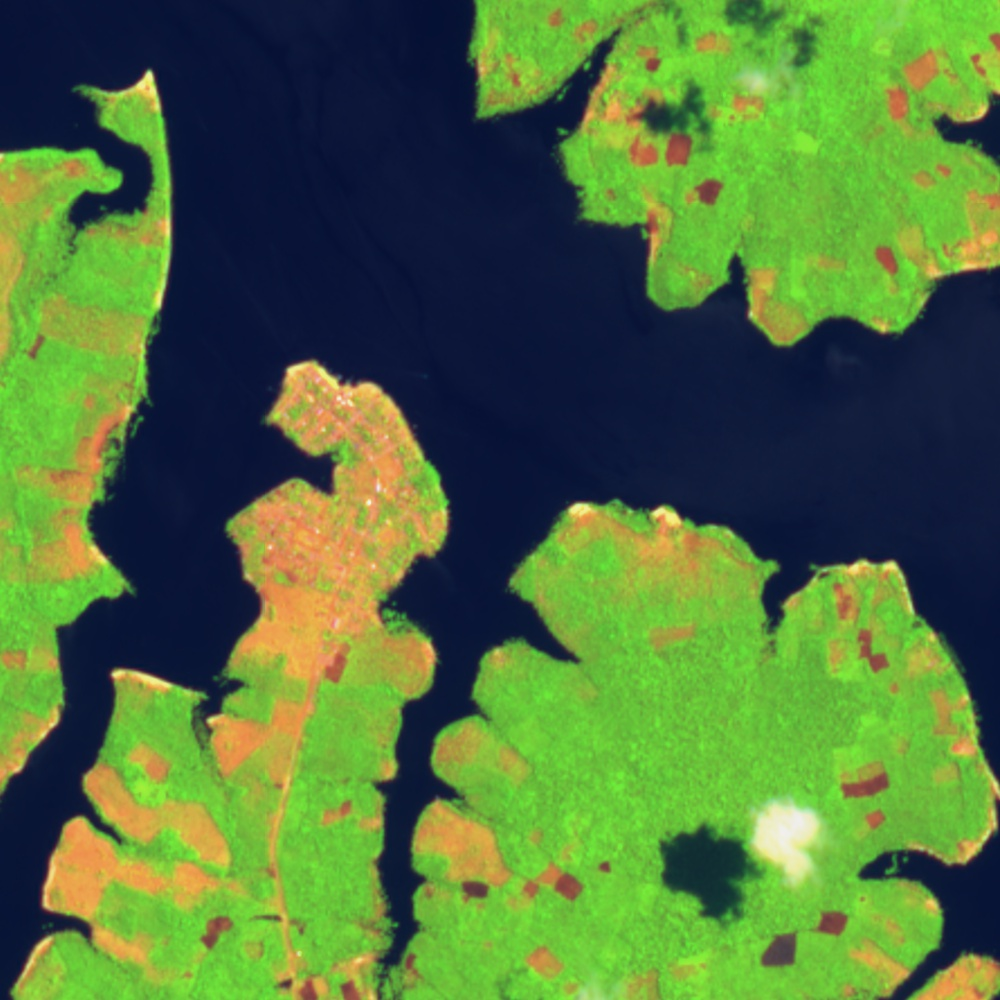legal: (40, 741, 240, 918), (20, 385, 136, 586), (411, 802, 613, 914), (563, 499, 779, 591), (815, 558, 953, 682), (892, 166, 1000, 282), (888, 28, 1000, 129), (904, 763, 1000, 866), (203, 693, 301, 781), (26, 296, 154, 361), (580, 44, 669, 131), (626, 130, 726, 207), (1, 650, 61, 774), (286, 948, 420, 1000), (85, 918, 189, 980), (761, 908, 853, 970), (746, 262, 811, 345), (835, 756, 897, 835), (910, 953, 1000, 1000), (928, 684, 979, 758), (854, 937, 910, 992), (640, 192, 680, 264), (11, 934, 56, 996), (525, 942, 575, 996), (93, 76, 166, 110), (86, 219, 170, 247), (110, 666, 169, 697), (705, 96, 766, 123), (691, 26, 736, 51), (200, 916, 236, 947), (877, 244, 902, 280)
